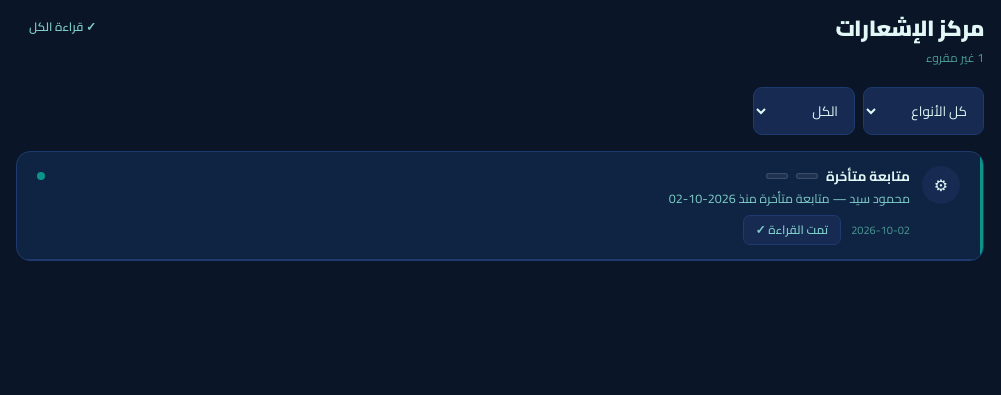
Test: NotificationsPage — derived from reminderService.js (Product Completion Phase 1, Issue 4) › mark-read still works end-to-end: clicking a notification marks it read and drops the unread dot
Expected: the text "1 غير مقروء" is shown, [926,46,984,69]
Click the text "متابعة متأخرة": [868, 176] box [826,166,910,186]
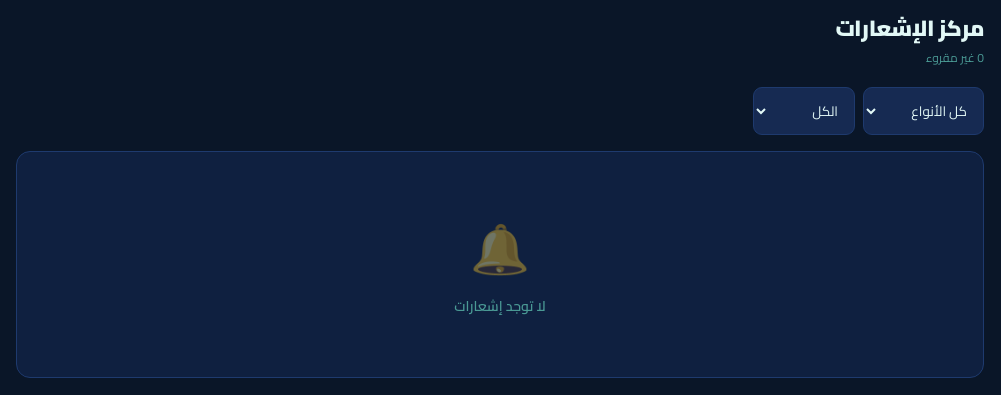
Result: the text "0 غير مقروء" is shown at [926,46,984,69]
